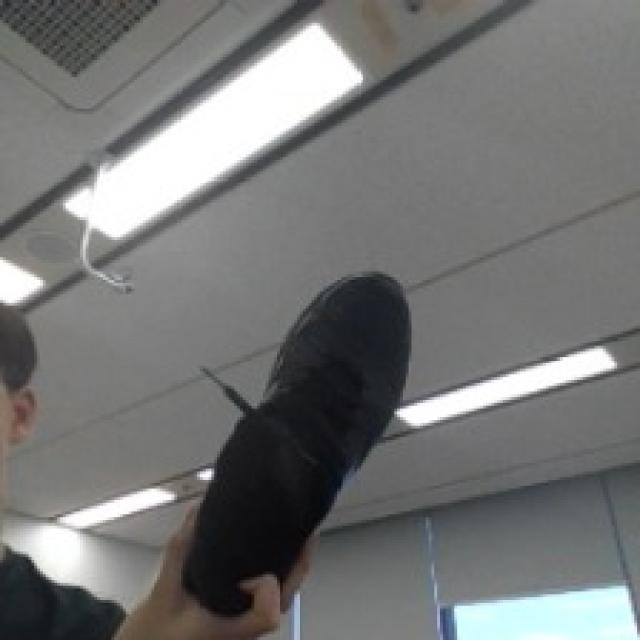shoe: (181, 268, 416, 620)
